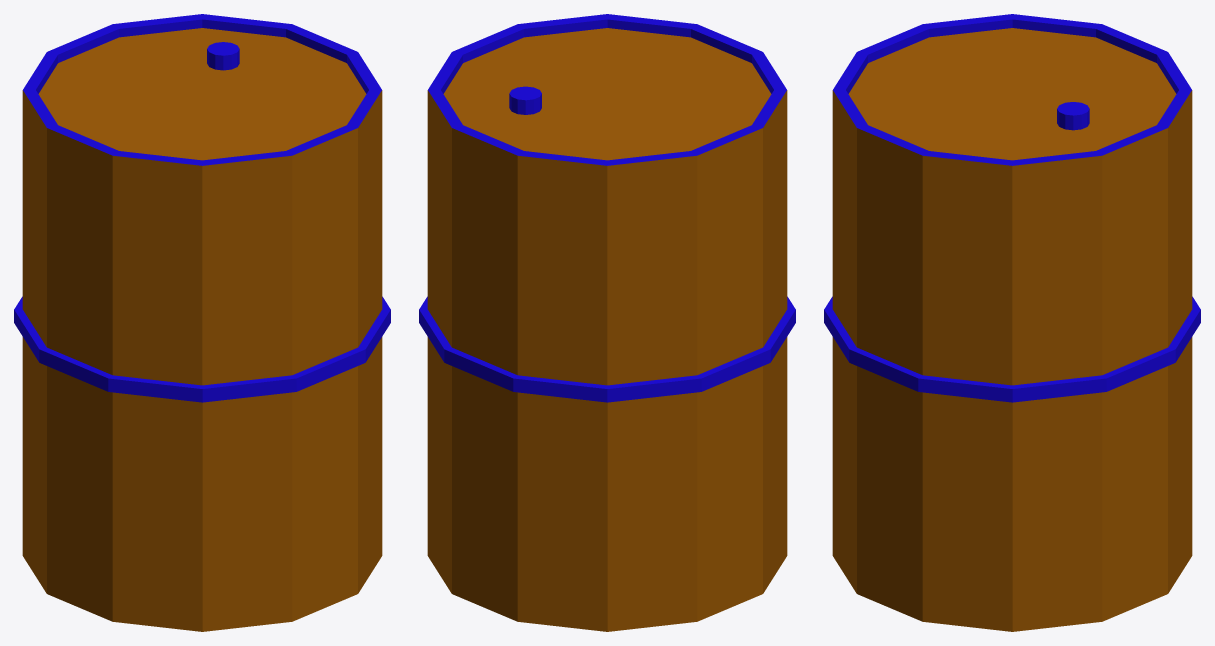
File: drum.glb
3 views of the same model, side by side, from view 1: azimuth 30°, elevation 25°; view 2: azimuth 150°, elevation 25°; view 3: azimuth 270°, elevation 25° (orthographic).
Parts seen in each view (by area): view 1: Drum; view 2: Drum; view 3: Drum.
Boxes of the visible parts, box(x1,y1,x2,y2) form: Drum: box(14, 14, 390, 631); Drum: box(419, 14, 795, 631); Drum: box(824, 14, 1200, 631).
Bounding box in the file's own units: 0.5661 × 0.7831 × 0.5661.
